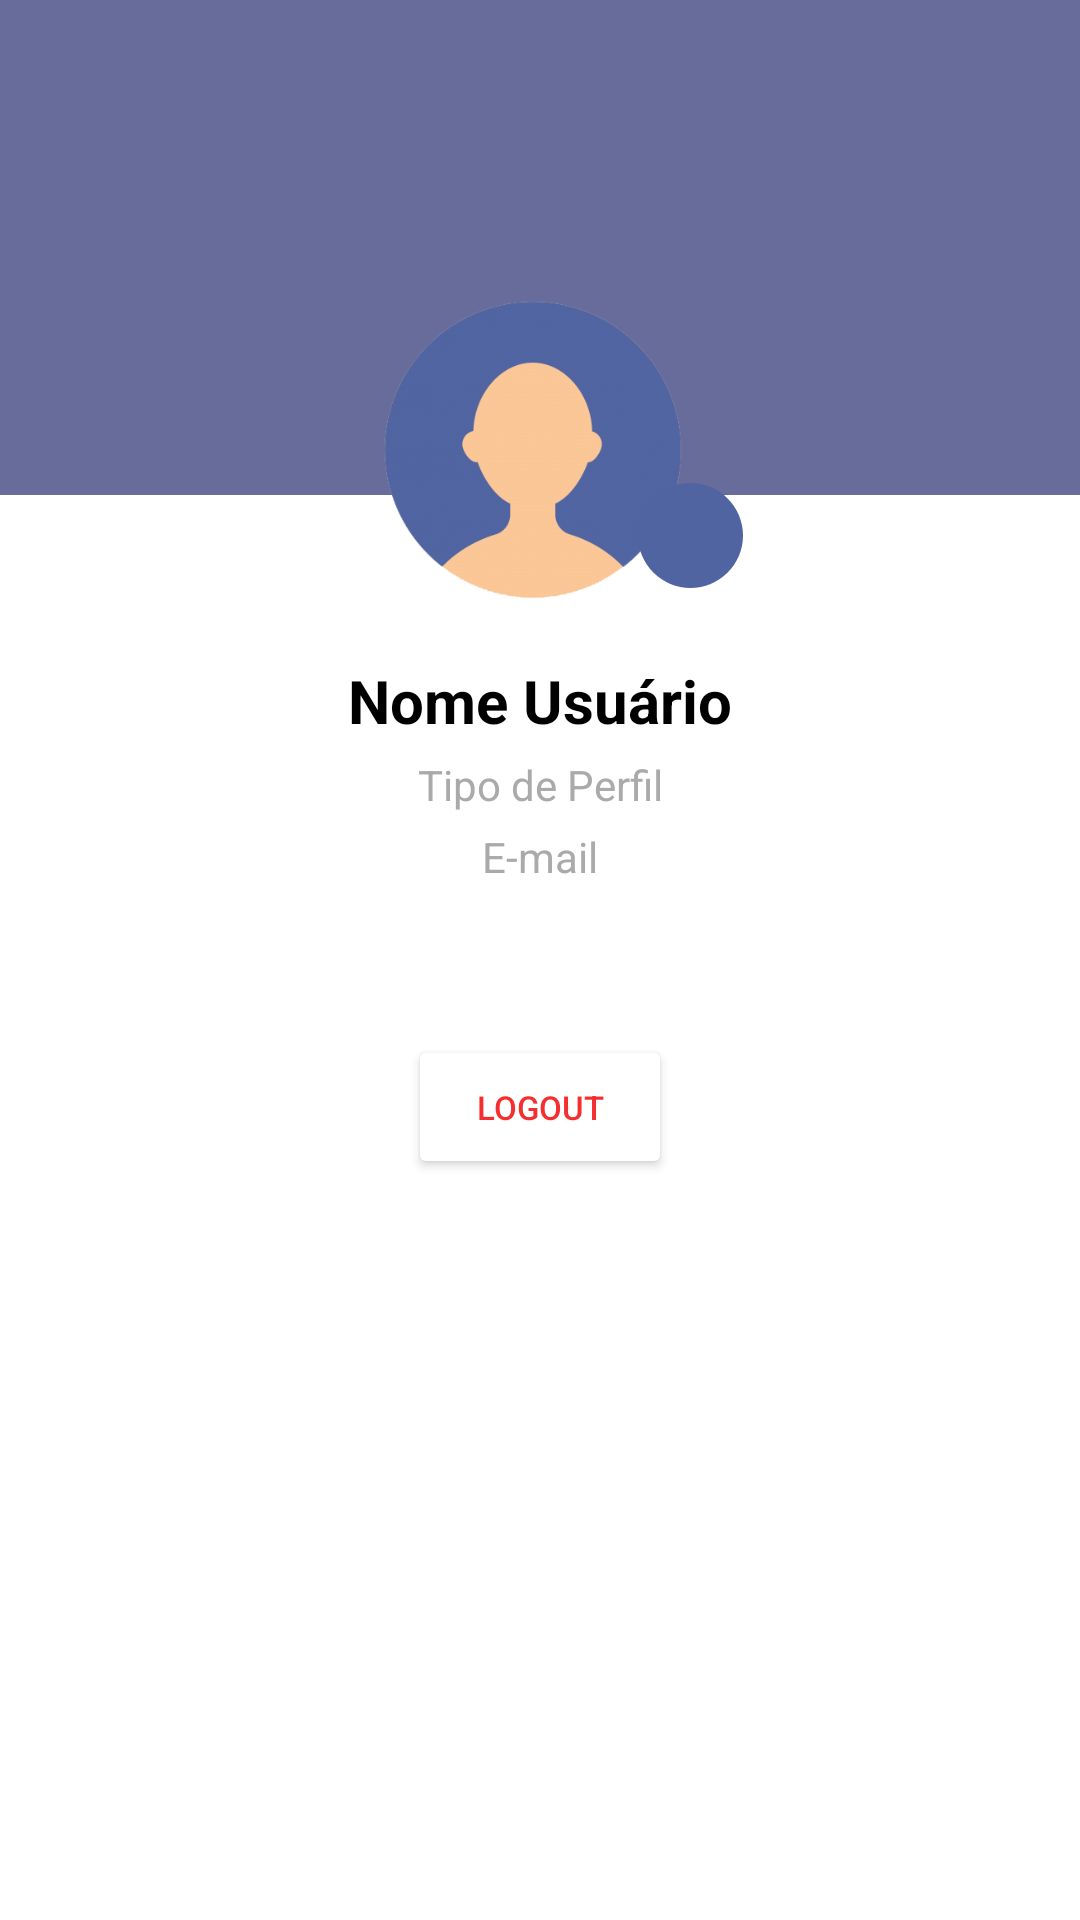

Named icons in this screenshot (1080×1920) and their centers, (x,y):
user profile: (533,451)
